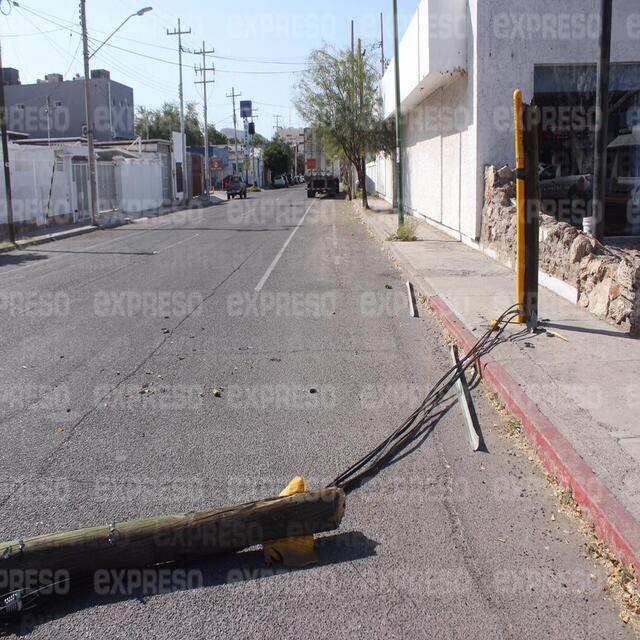Inclined Pole: (0, 466, 347, 603)
